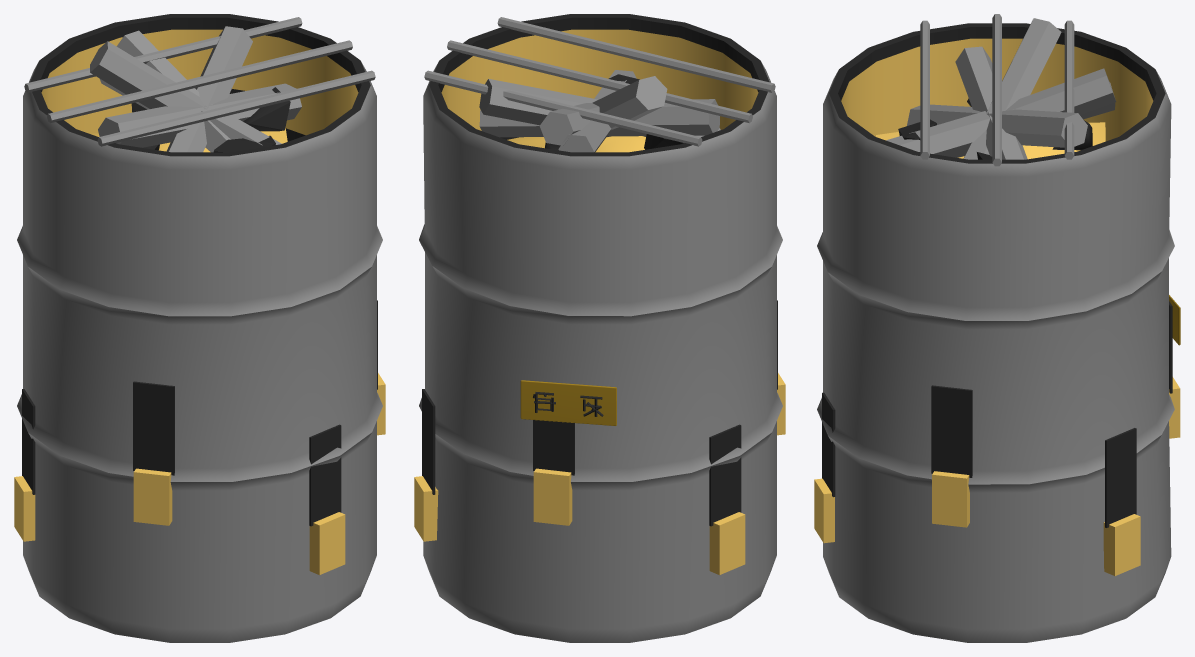
The model's file is FireBarrel.fbx.
3 renders of one model, left to right at view 1: azimuth 30°, elevation 25°; view 2: azimuth 150°, elevation 25°; view 3: azimuth 270°, elevation 25°, orthographic.
Parts seen in each view (by area): view 1: FireBarrel_LOD0; view 2: FireBarrel_LOD0; view 3: FireBarrel_LOD0.
Boxes of the visible parts, box(x1,y1,x2,y2) form: FireBarrel_LOD0: box(14, 14, 385, 642); FireBarrel_LOD0: box(414, 14, 785, 642); FireBarrel_LOD0: box(814, 14, 1180, 642).
Size of what is drawn, in the model's own units: 0.6086 by 0.9536 by 0.6093.
